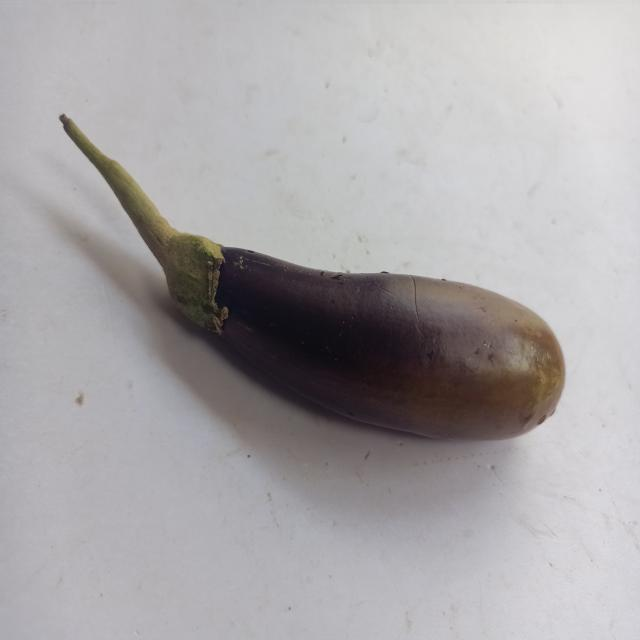Brinjal: (42, 54, 573, 497)
